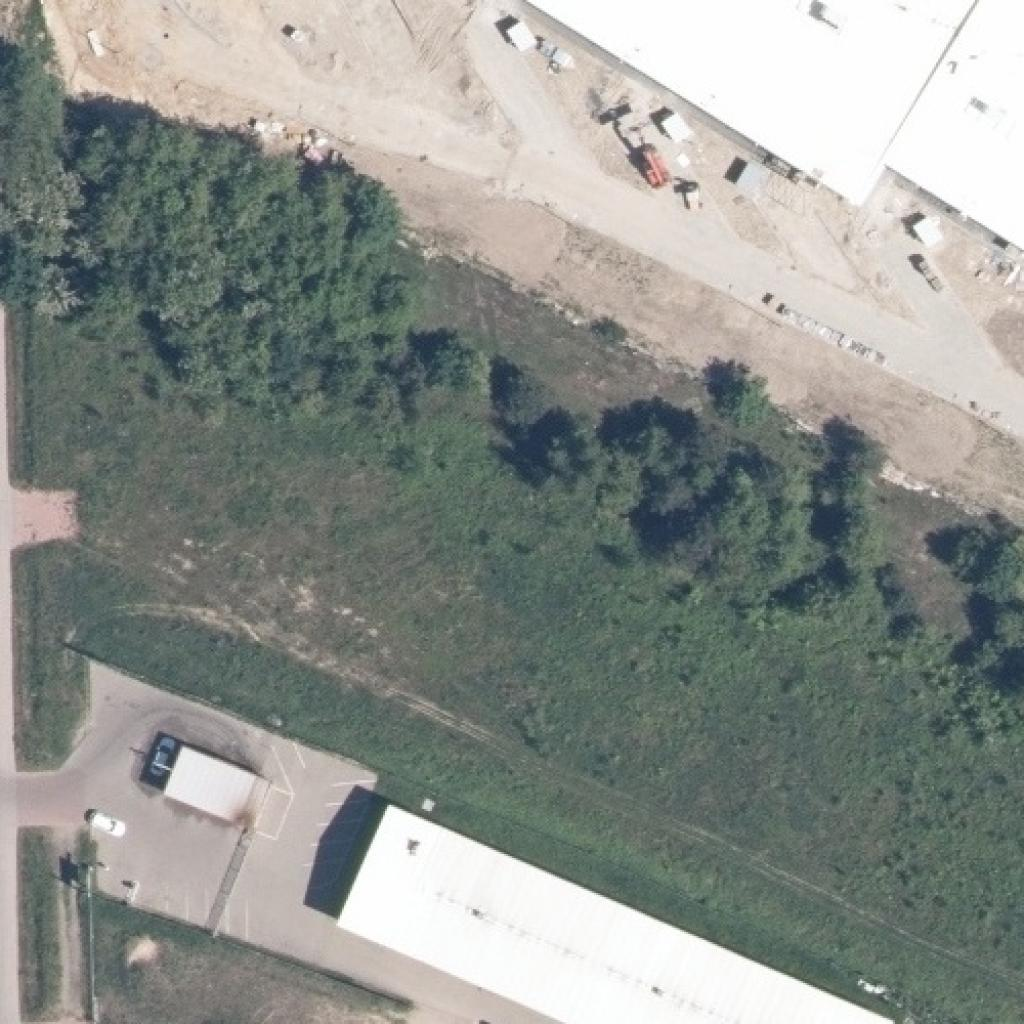koparka: (624, 124, 676, 199)
